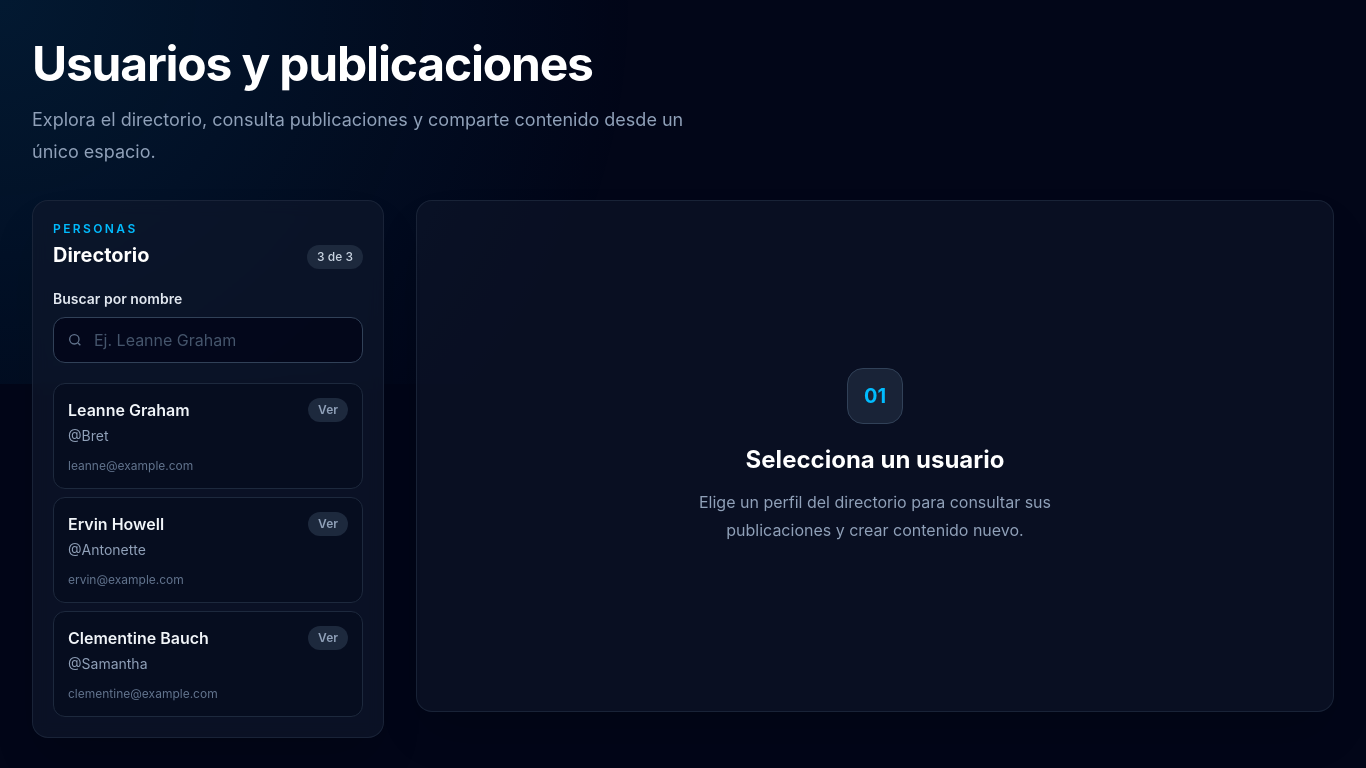
interacciones de usuarios y publicaciones › filtra la lista de usuarios por nombre
Expected: the text "Leanne Graham" is shown, 68,398 -> 190,422
Type "Clementine" into the search field labelled "Buscar por nombre". click: (208, 340)
box: 53,317 -> 363,363
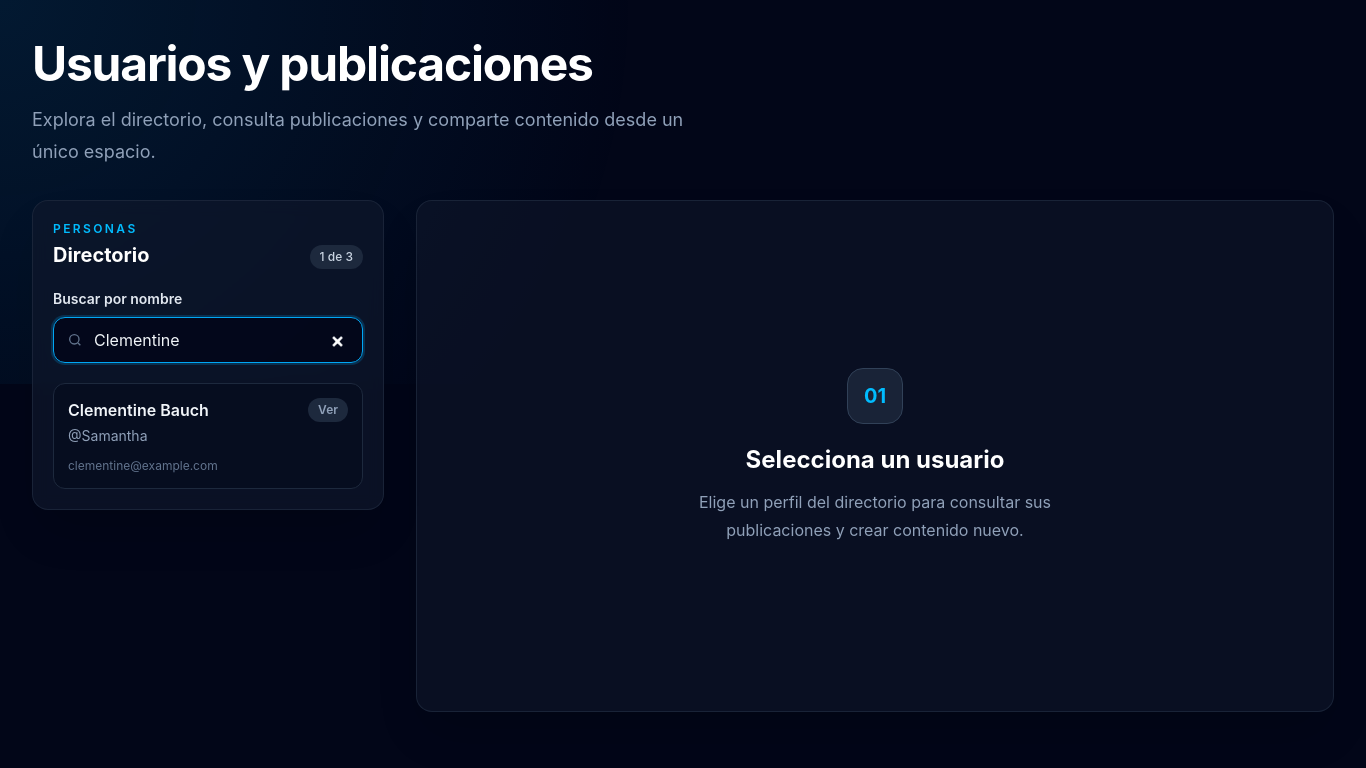
Expected: the text "Clementine Bauch" is shown, 68,398 -> 209,422
Now the button "Leanne Graham" is gone
Now the button "Ervin Howell" is gone
